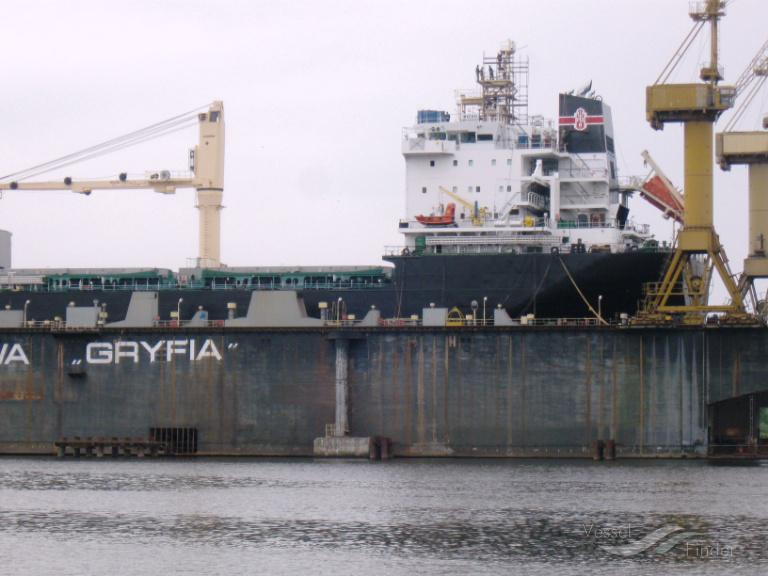OCR: (67, 336, 228, 371)
